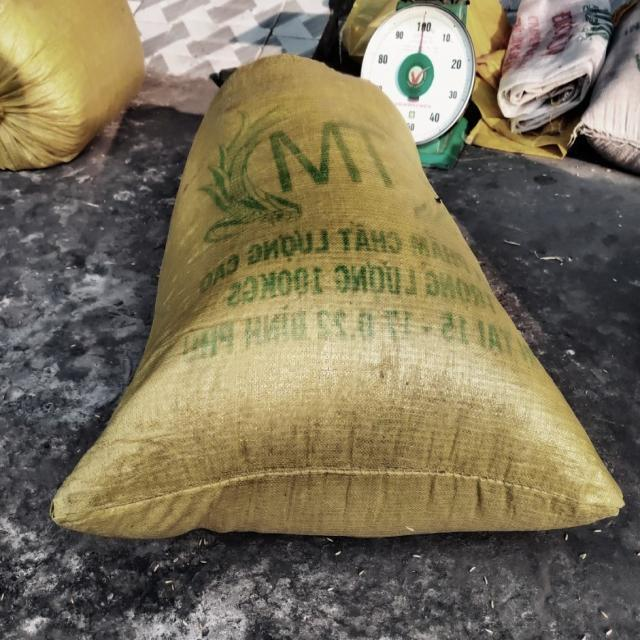gunny_bag: (50, 56, 625, 538)
